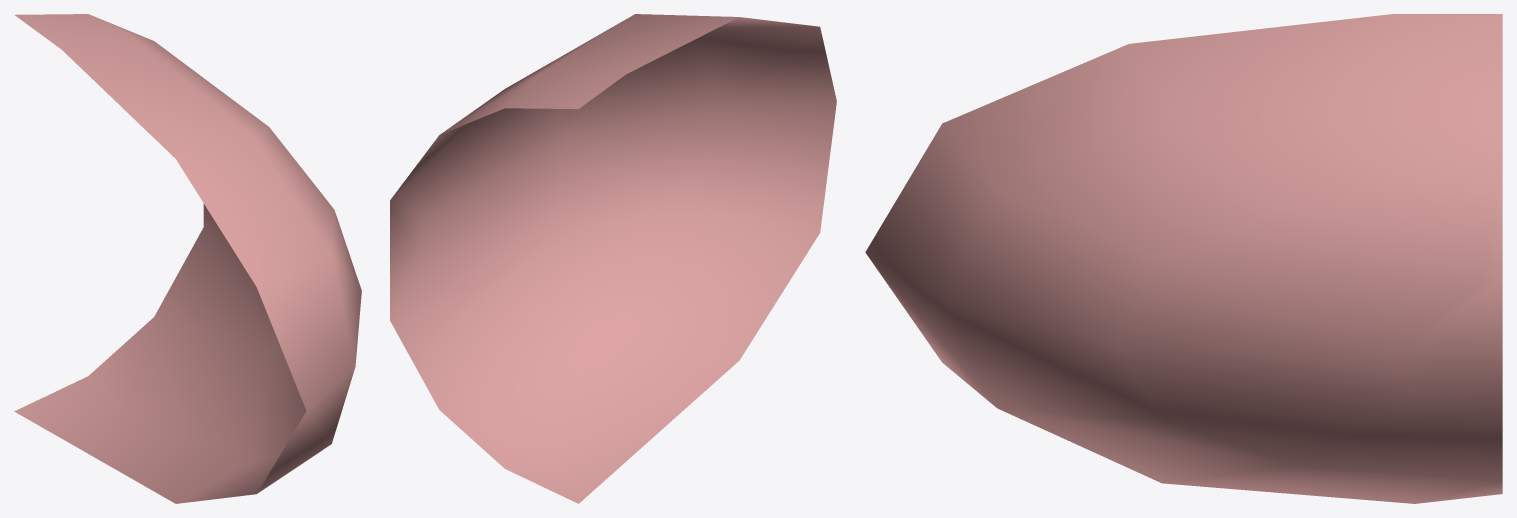
Rendered from m_jet_0d486cf8.glb.
The picture shows the model from 3 angles, left to right: view 1: azimuth 30°, elevation 25°; view 2: azimuth 150°, elevation 25°; view 3: azimuth 270°, elevation 25°; orthographic projection. The views are drawn at different scales.
Parts seen in each view (by area): view 1: mesh; view 2: mesh; view 3: mesh.
Boxes of the visible parts, bbox=[...] form: mesh: bbox=[14, 14, 361, 503]; mesh: bbox=[390, 14, 836, 503]; mesh: bbox=[865, 14, 1502, 503].
Bounding box in the file's own units: 25 × 46 × 58.
